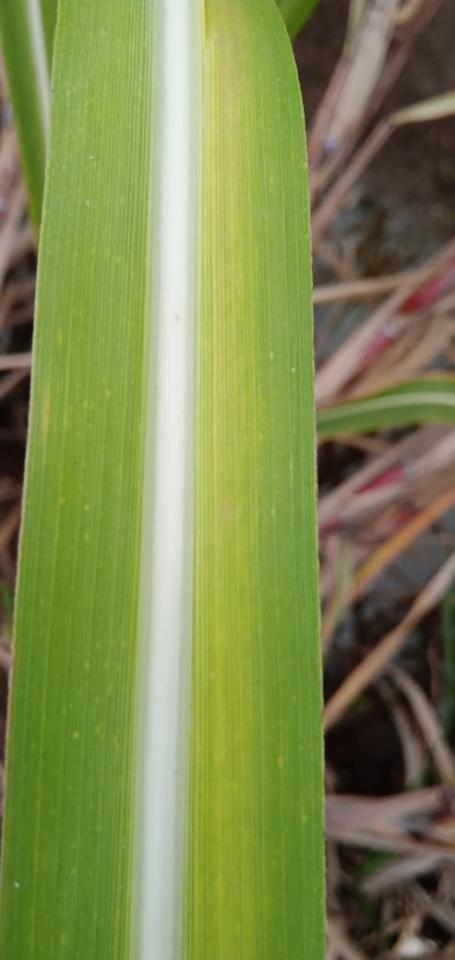Yellow: (41, 386, 49, 440)
